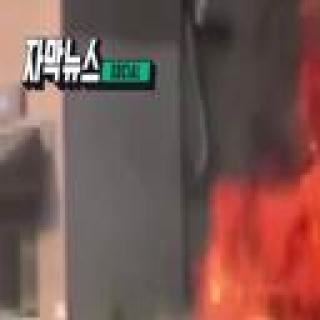fire: (218, 69, 320, 320)
